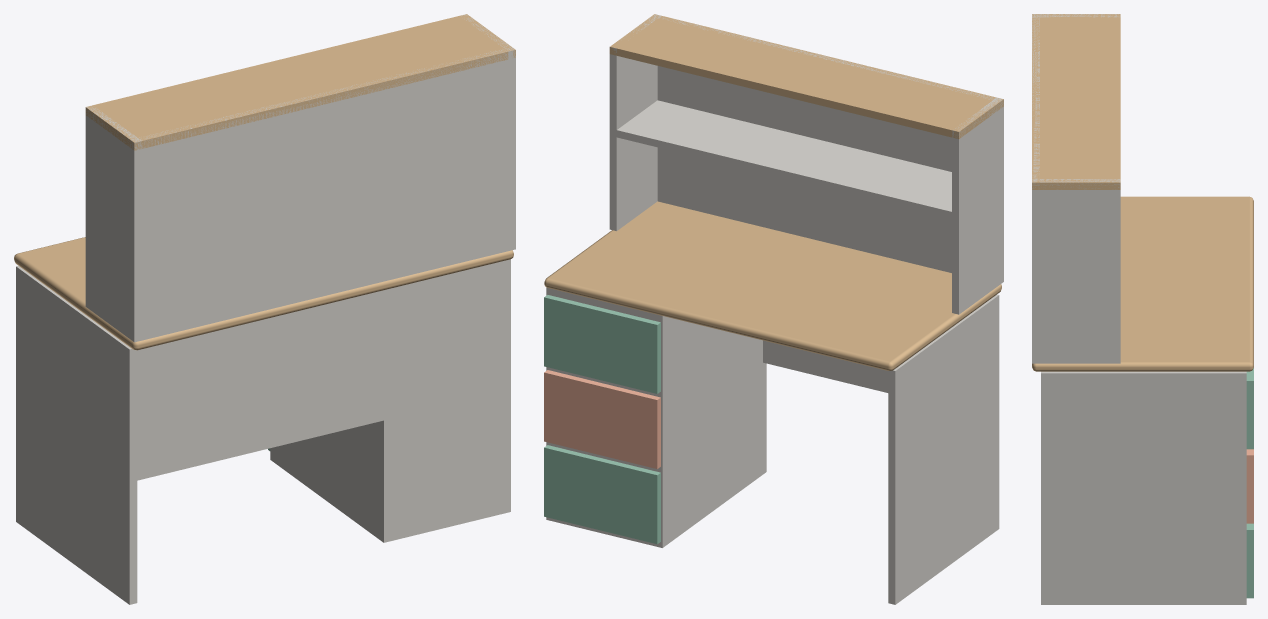
3 views of the same model, side by side, from view 1: azimuth 30°, elevation 25°; view 2: azimuth 150°, elevation 25°; view 3: azimuth 270°, elevation 25° (orthographic). The views are drawn at different scales.
Visible parts, largest first — view 1: panel-left, top; view 2: panel-left, top, drawer-1, drawer-2; view 3: panel-left, top, drawer-1, drawer-2.
Boxes of the visible parts, x1,y1,x2,y2 form: panel-left: (16, 14, 515, 604); top: (14, 14, 515, 350); panel-left: (546, 14, 1003, 604); top: (544, 14, 1003, 370); drawer-1: (544, 295, 660, 544); drawer-2: (544, 370, 660, 468); panel-left: (1032, 14, 1246, 604); top: (1032, 14, 1253, 371); drawer-1: (1246, 368, 1253, 598); drawer-2: (1246, 449, 1253, 523).
Size of the model in its own units: 0.9 by 1.05 by 0.5.
